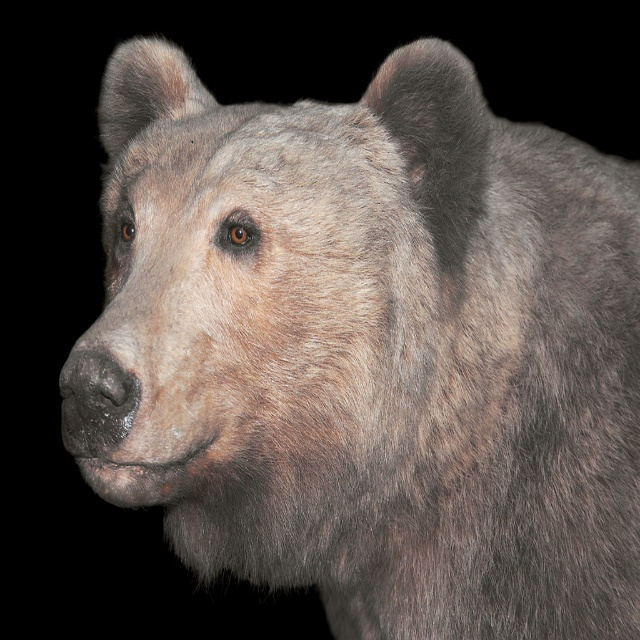Brown bear: (58, 31, 640, 640)
